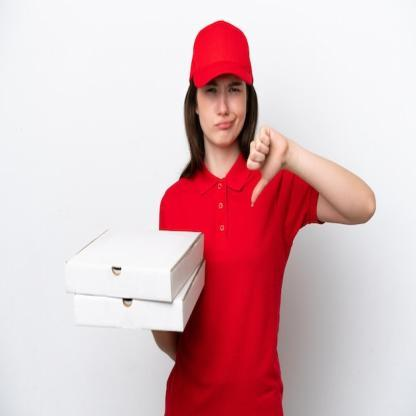thumb_down: (244, 119, 286, 209)
